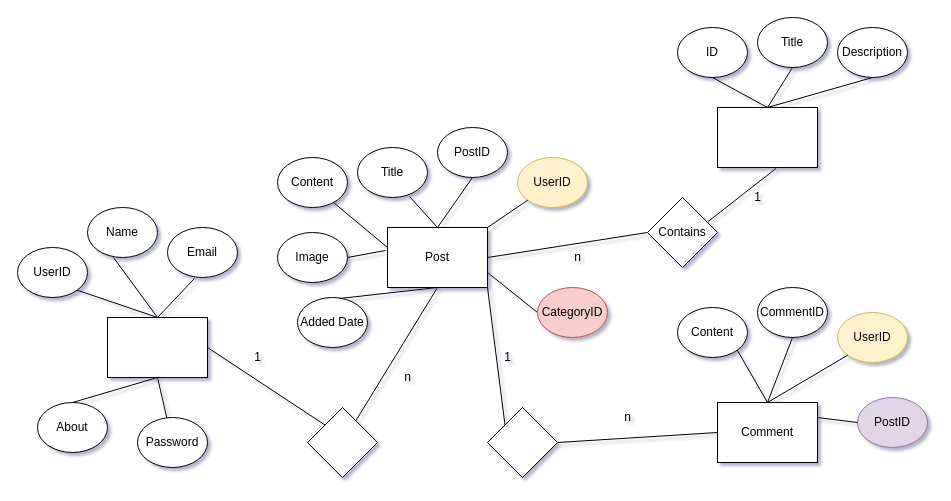
The diagram is 951 pixels wide and 501 high, and some of its shapes have lost their labels. The shapes that lost their labels are listed below. From the top down, each one's centre as x and y in pixels, then its label:
At pixel 767 137: "Category".
At pixel 157 347: "User".
At pixel 342 442: "Create".
At pixel 522 442: "have".
